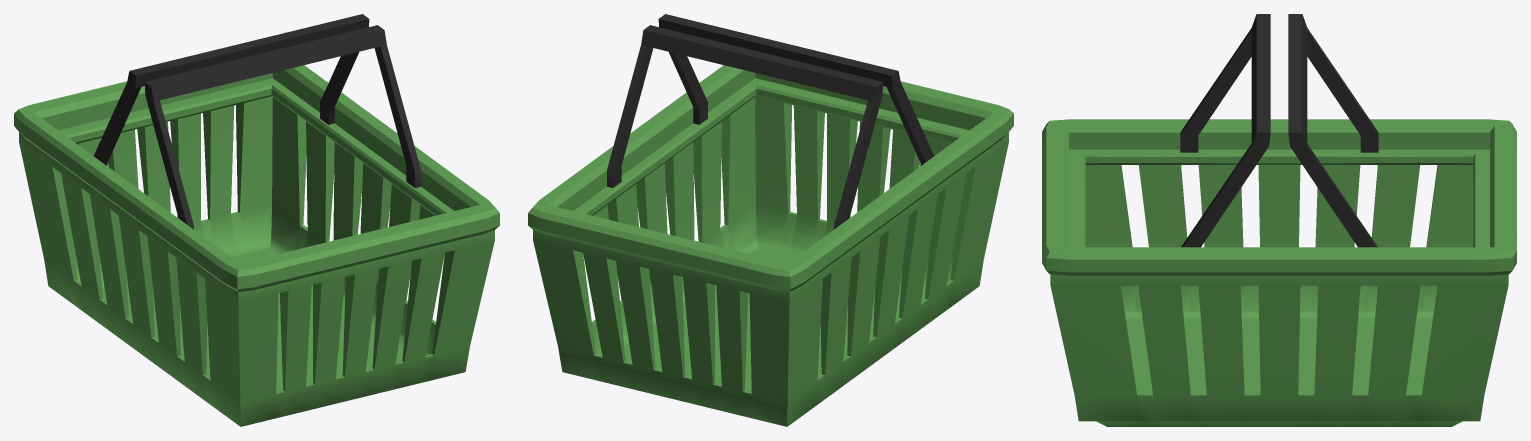
File: Basket.fbx
3 renders of one model, left to right at view 1: azimuth 30°, elevation 25°; view 2: azimuth 150°, elevation 25°; view 3: azimuth 270°, elevation 25°, orthographic. The views are drawn at different scales.
Parts seen in each view (by area): view 1: Basket; view 2: Basket; view 3: Basket.
Boxes of the visible parts, box(x1,y1,x2,y2) form: Basket: box(14, 14, 499, 426); Basket: box(528, 14, 1013, 426); Basket: box(1042, 14, 1516, 426).
Bounding box in the file's own units: 50.72 × 52.66 × 74.43.
